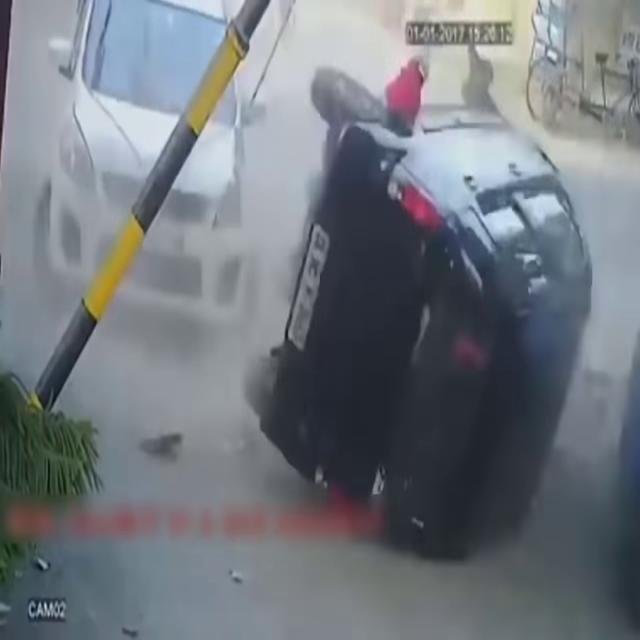accident: (269, 49, 591, 579)
